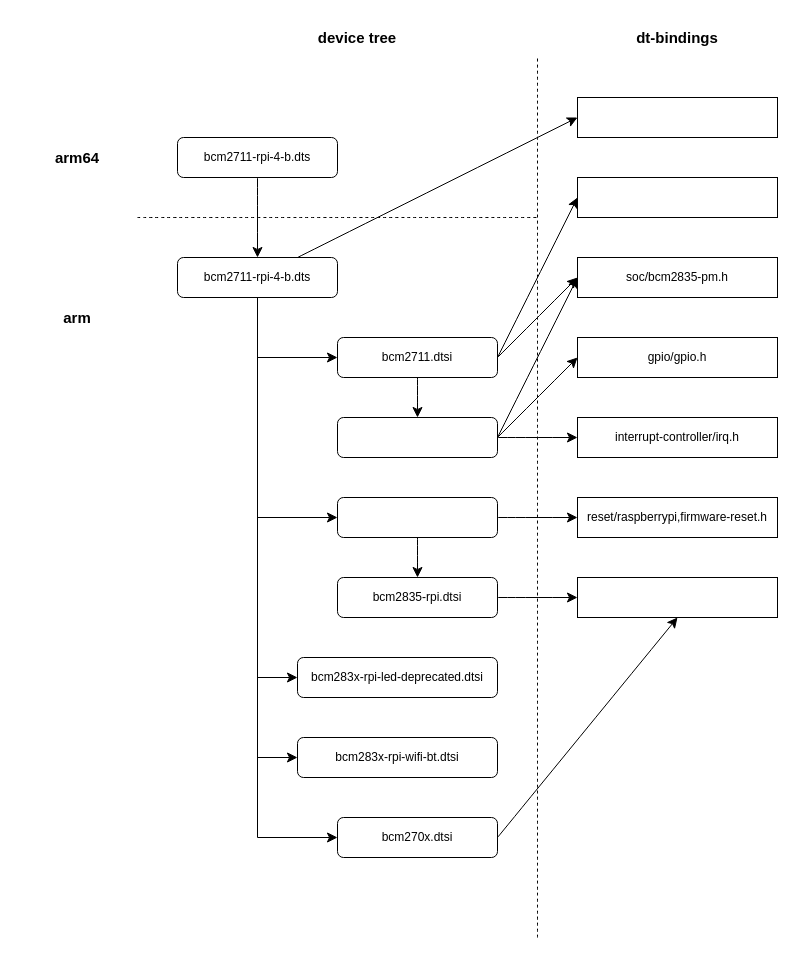
The diagram is 795 pixels wide and 956 high, and some of its shapes have lost their labels. The shapes that lost their labels are listed below. From the top down, each one's centre as x and y in pixels, then its label:
At point (677, 117): "leds/common.h".
At point (677, 197): "interrupt-controller/arm-gic.h".
At point (417, 437): "bcm283x.dtsi".
At point (417, 517): "bcm2711-rpi.dtsi".
At point (677, 597): "power/raspberrypi-power.h".
